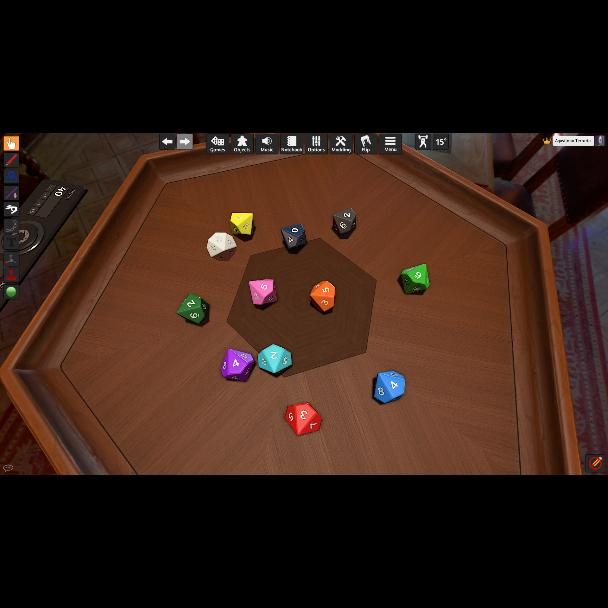d10: (284, 403, 322, 436), (220, 348, 253, 382), (372, 370, 402, 404), (258, 344, 292, 374), (177, 294, 208, 325), (206, 232, 234, 262), (310, 281, 336, 313), (249, 279, 277, 307), (401, 264, 427, 294), (280, 223, 306, 249), (332, 208, 356, 236), (229, 212, 251, 236)
